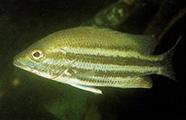Lutjanidae -Snappers-: (11, 20, 186, 98)
